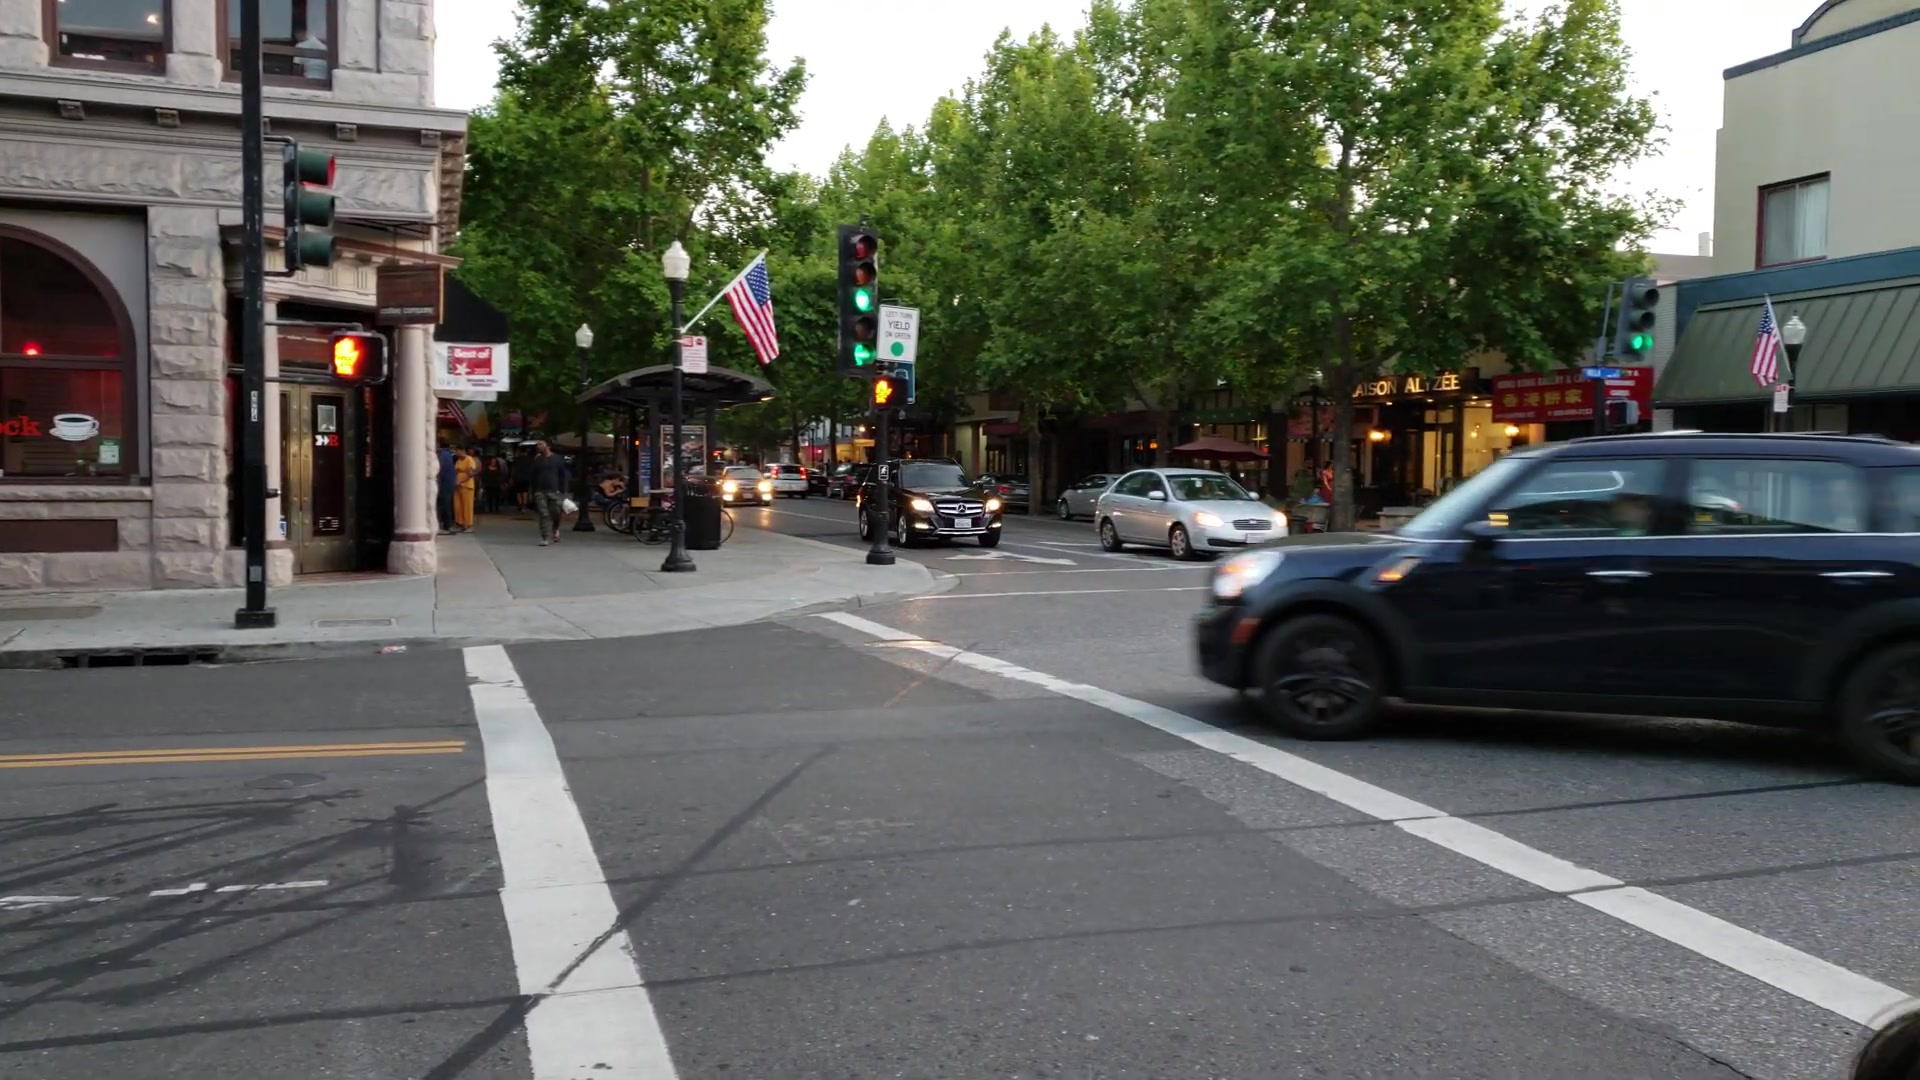vehicle: (1197, 426, 1913, 786), (1095, 465, 1288, 560), (857, 460, 1002, 549), (721, 465, 774, 506)
